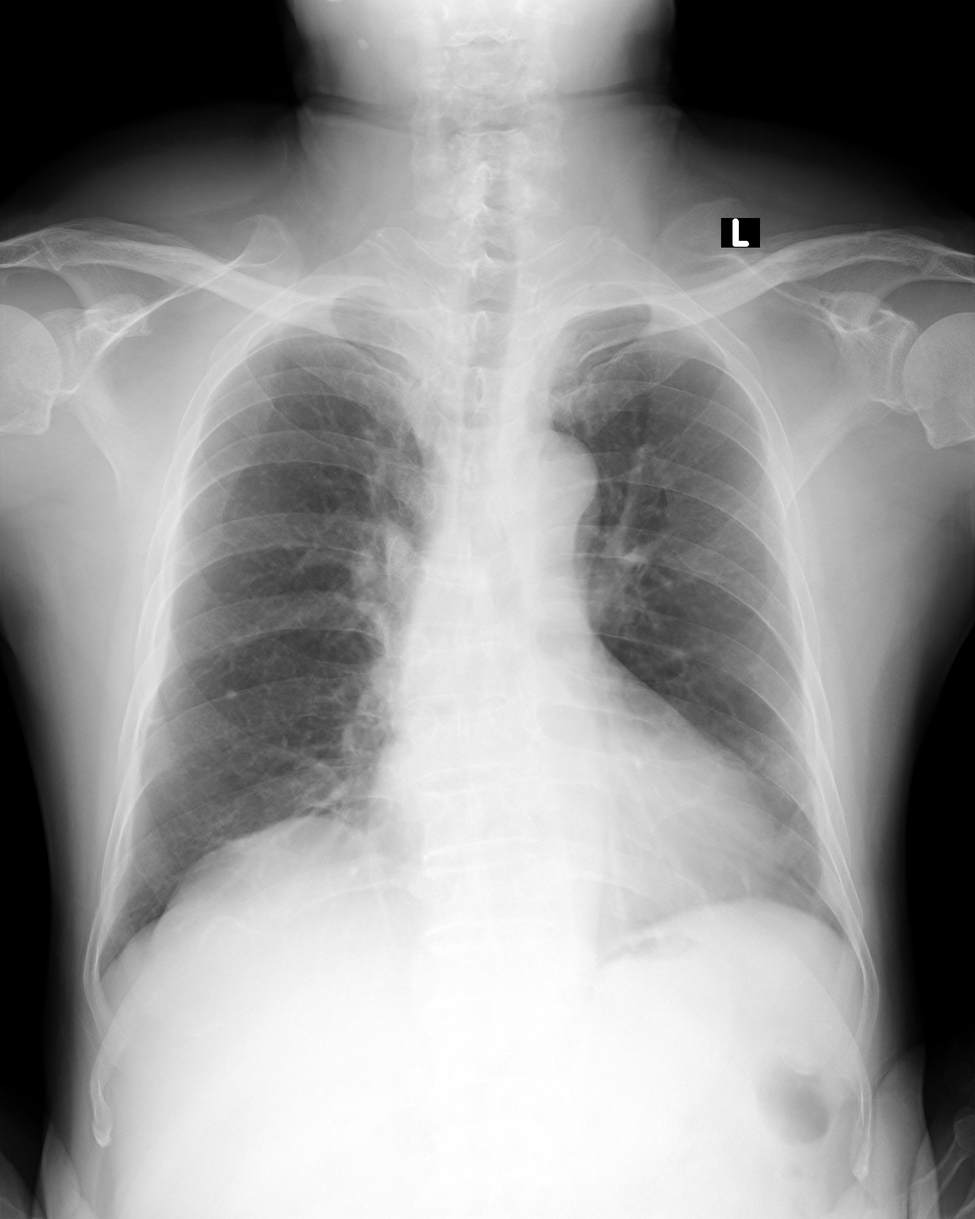Aortic enlargement: (483, 426, 600, 551)
Cardiomegaly: (366, 765, 790, 945)
